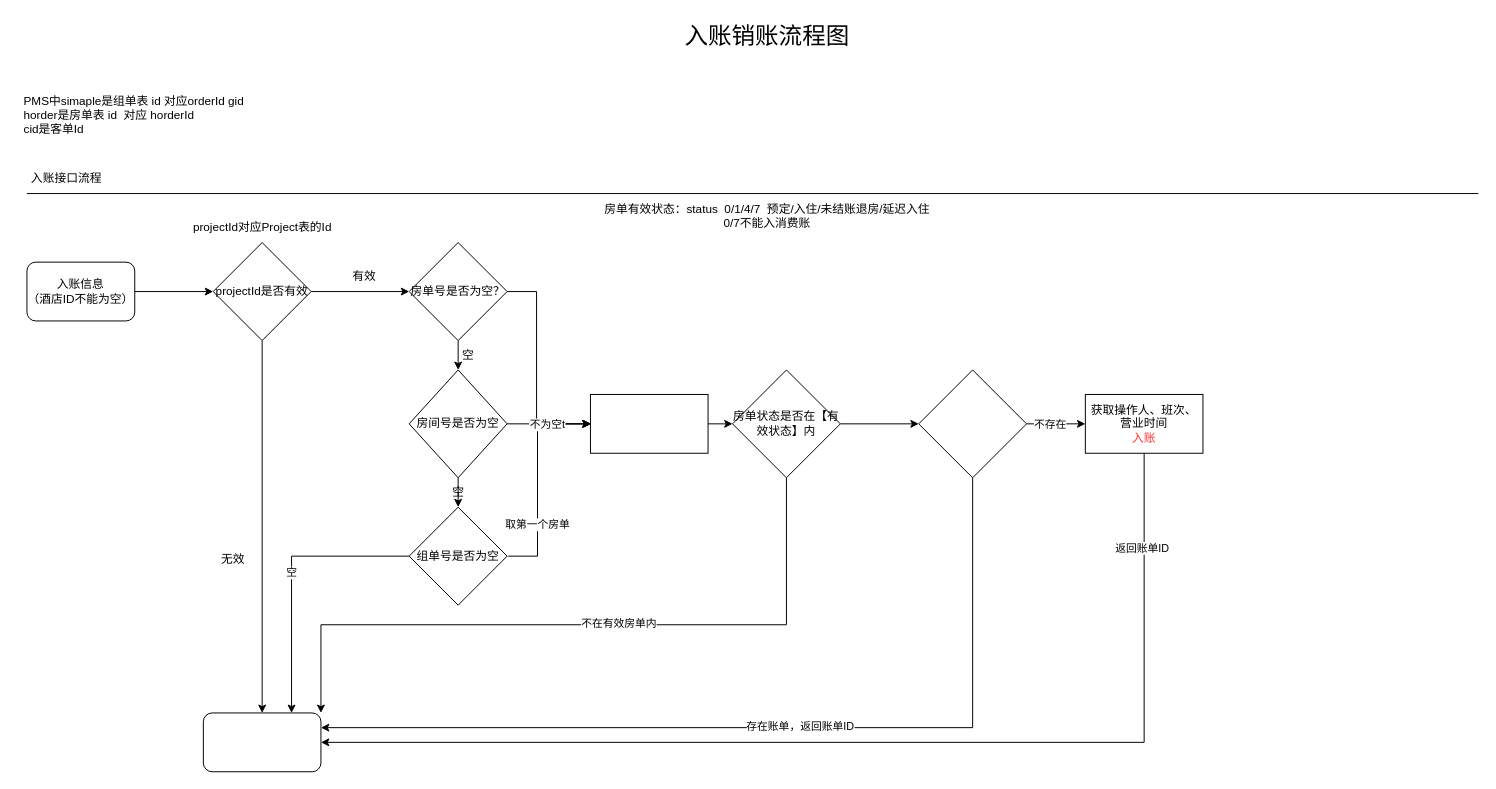
Image size: 1496x789. Some labels were removed from this diagram. Each missing label, with the box of its shape:
结束: (202, 712, 321, 772)
获取有效房单: (589, 393, 708, 453)
酒店+金额+ 入账项+凭证号 是否已存在账单: (918, 369, 1027, 478)
